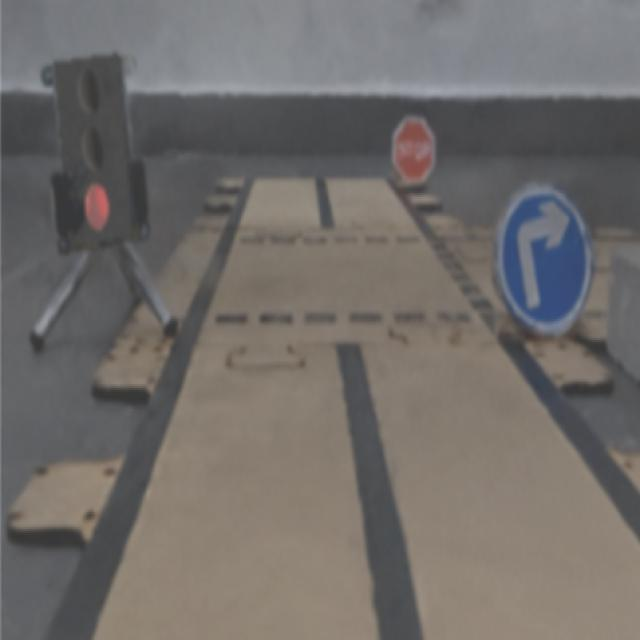RIGHT: (495, 185, 593, 332)
STOP: (392, 117, 434, 181)
